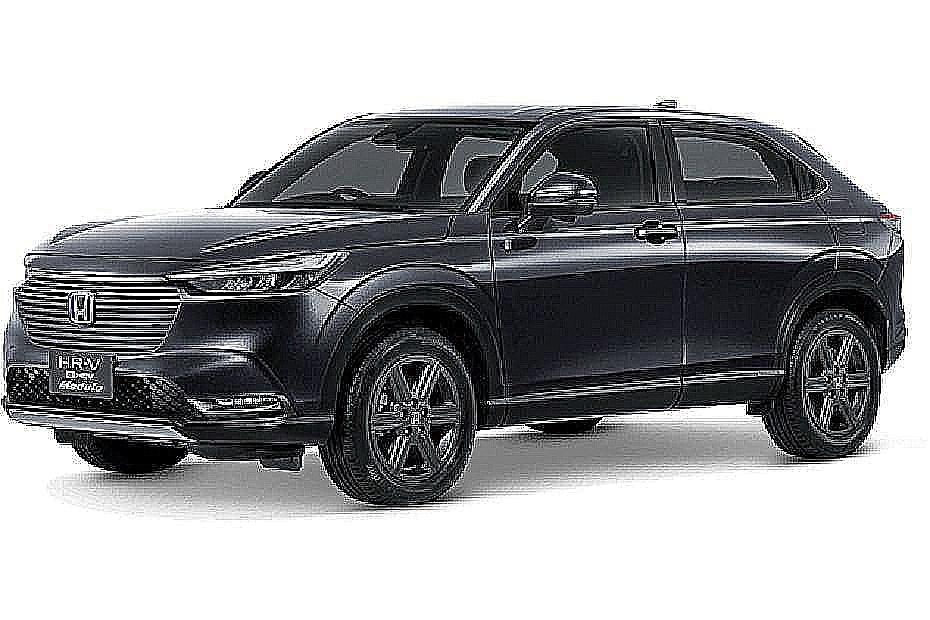Car hood: (19, 201, 461, 265)
Fender - -F-L-: (317, 203, 507, 428)
Fender - -R-L-: (787, 130, 895, 334)
Front bumper: (0, 281, 364, 459)
Headlight - -L-: (160, 247, 350, 304)
Passenger-s door - -F-L-: (477, 87, 692, 436)
Passenger-s door - -R-L-: (656, 83, 841, 436)
Rear bumper: (872, 230, 922, 382)
Side bumper - -L-: (478, 349, 800, 455)
Side mirror - -L-: (496, 168, 601, 244)
